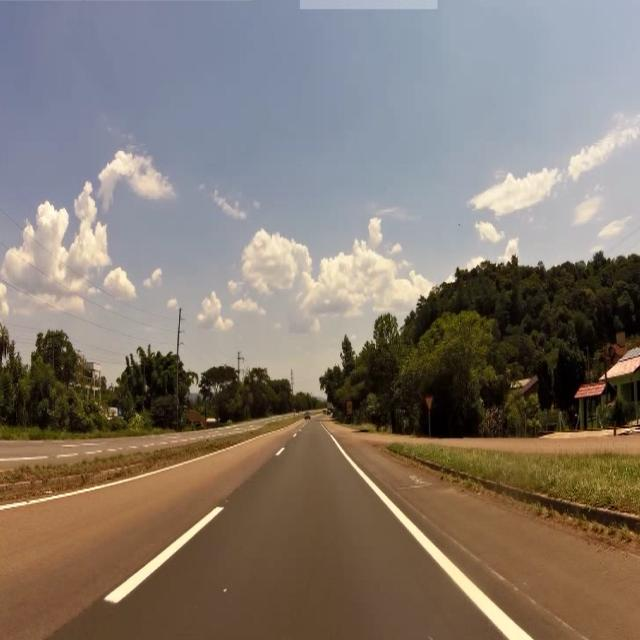R-2: (424, 393, 436, 408)
